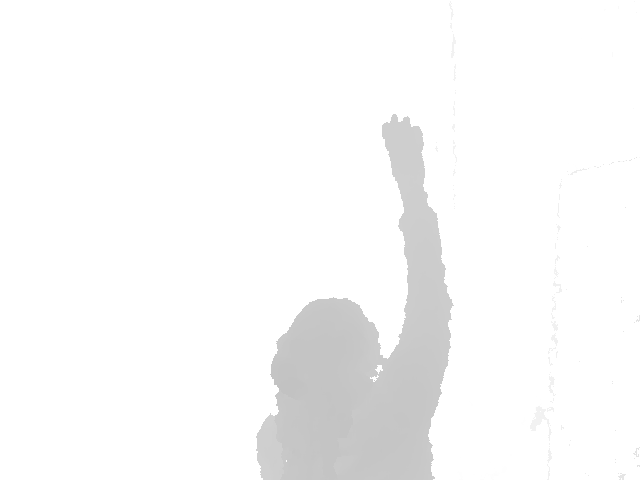hand: (380, 113, 427, 187)
head: (270, 298, 385, 397)
person: (255, 113, 455, 480)
